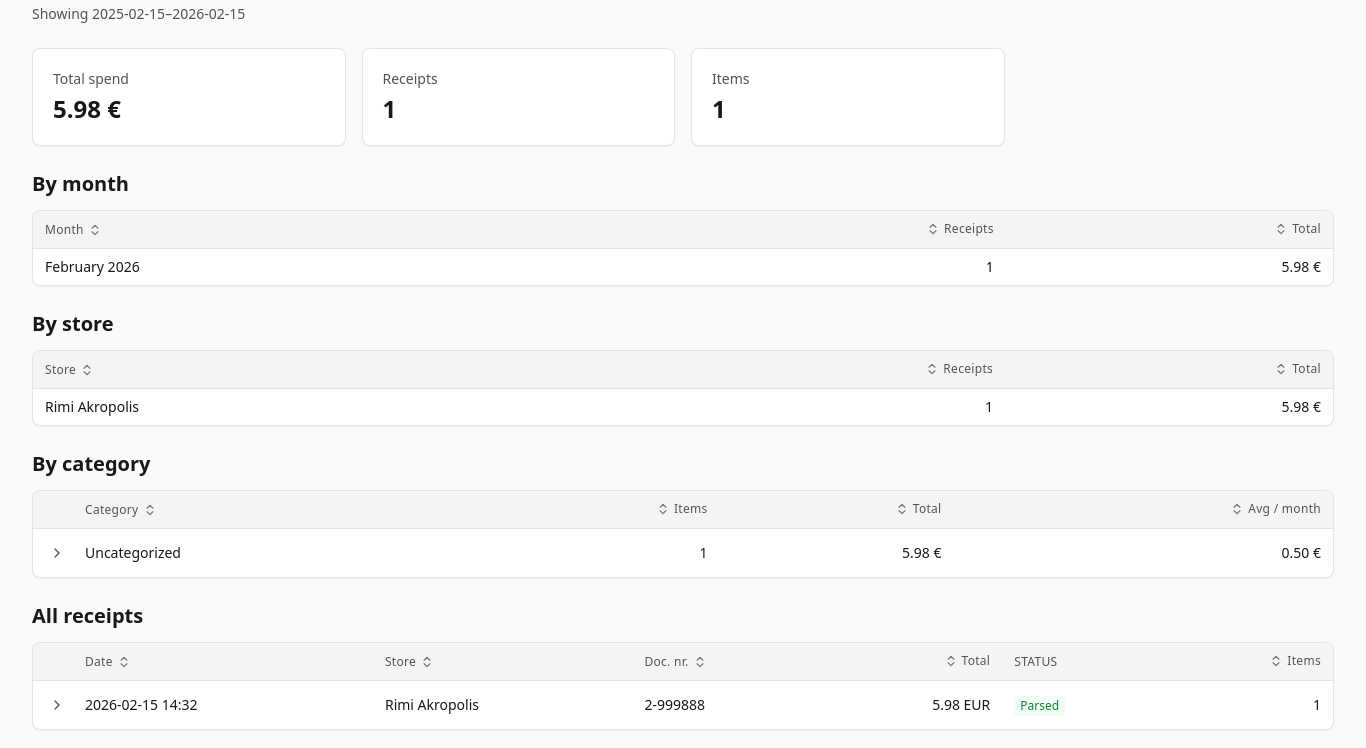
it: ReceiptsDashboard › renders summary cards, a category and a receipt row
(page scrolled)
Expected: the text "5.98 €" is shown, [53,92,121,125]
Expected: the text "Total spend" is shown, [53,69,129,88]
Click the button named "Expand row" next to "Uncategorized" at (57, 553), box [37,533,77,573]
(page scrolled)
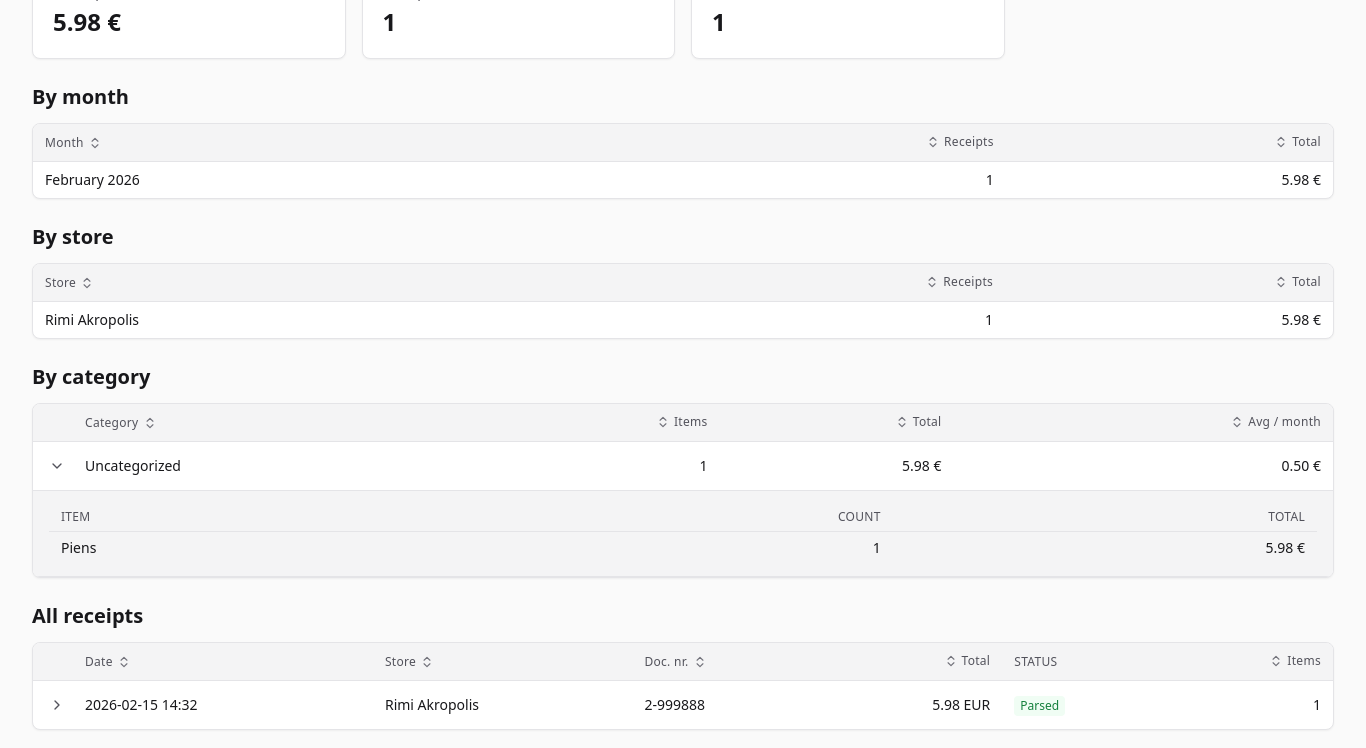
Now the button named "Expand row" is expanded, box [37,446,77,486]
Click the button named "Expand row" at (57, 705), box [37,685,77,725]
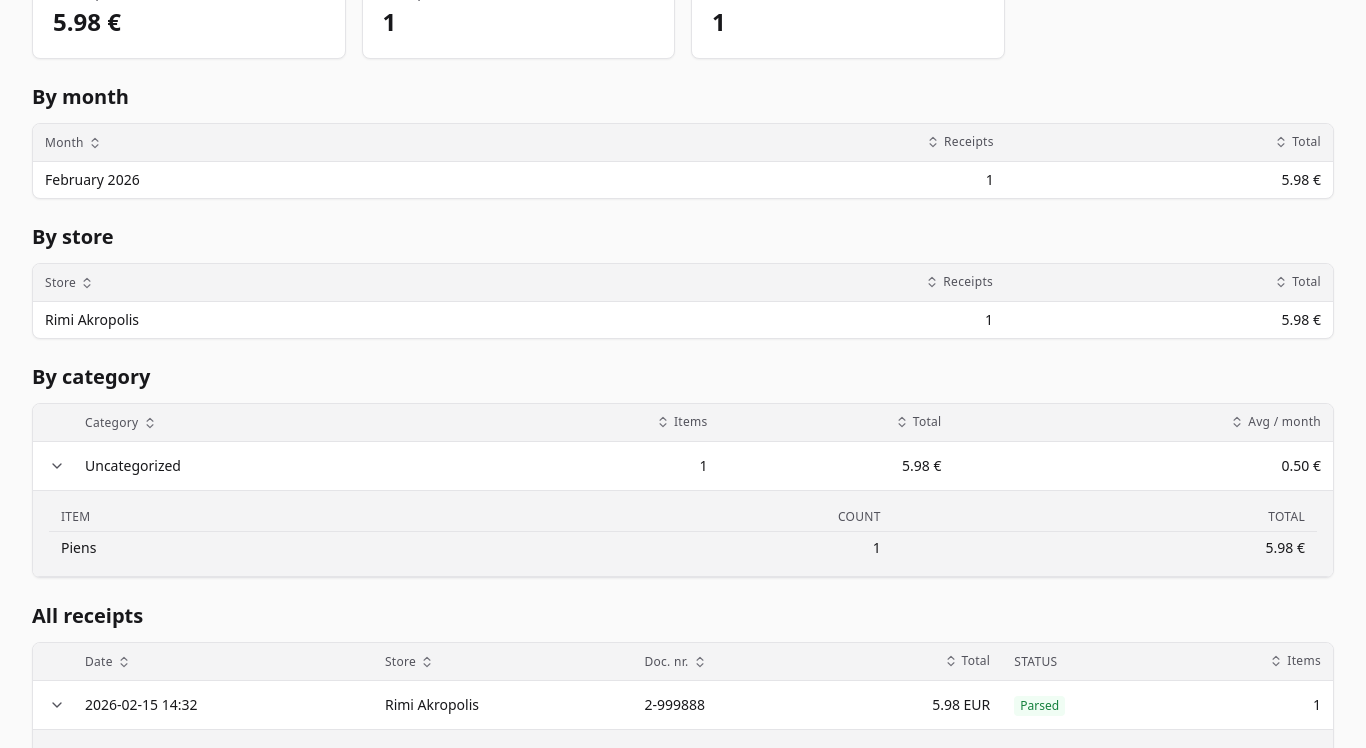
Now the button named "Expand row" next to "2026-02-15 14:32" is expanded, box [37,685,77,725]
